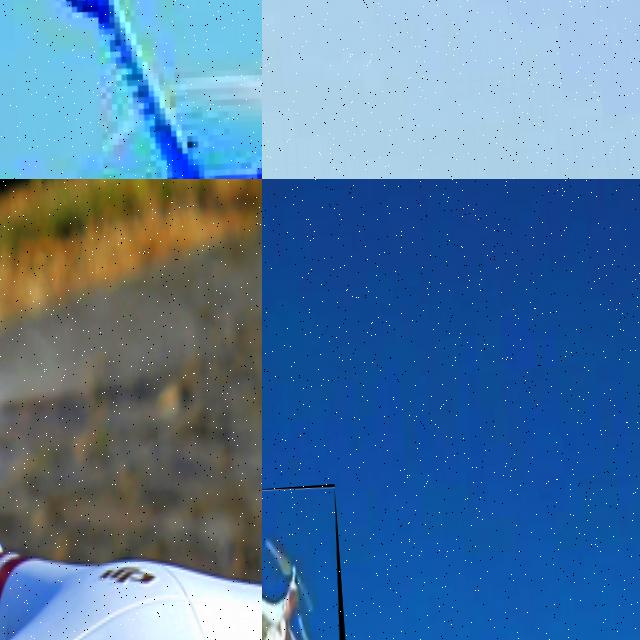0: (262, 483, 352, 640)
drone: (0, 179, 262, 640), (0, 0, 262, 179)
